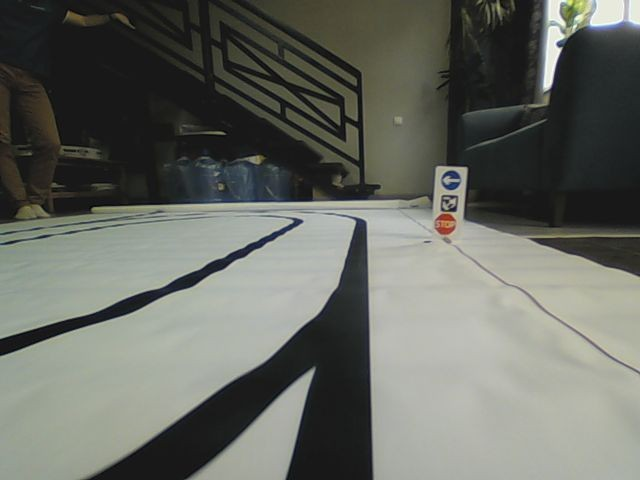Stop: (433, 211, 457, 237)
